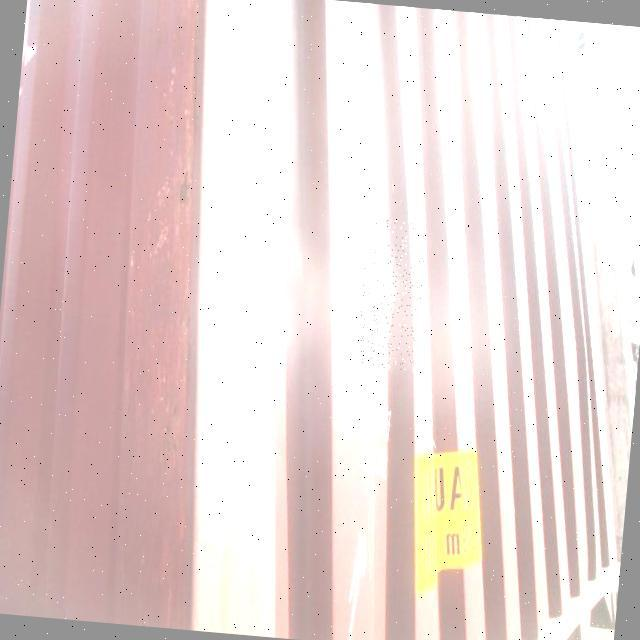Minor-Dent: (355, 218, 427, 371)
